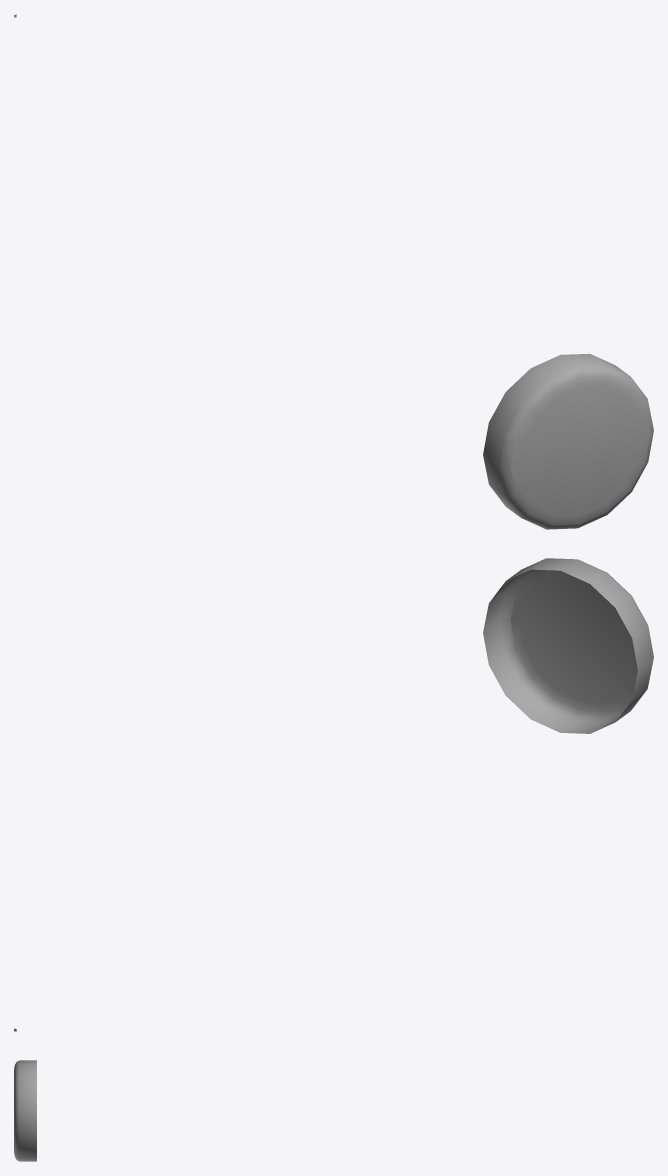
The model's file is AlarmClockButton_28_AlarmClockButton_28_1_GeomSubset_2.obj.
The picture shows the model from 3 angles, top to bottom: view 1: azimuth 30°, elevation 25°; view 2: azimuth 150°, elevation 25°; view 3: azimuth 270°, elevation 25°; orthographic projection. The views are drawn at different scales.
Parts seen in each view (by area): view 1: AlarmClockButton_28_AlarmClockButton_28_1_GeomSubset_2; view 2: AlarmClockButton_28_AlarmClockButton_28_1_GeomSubset_2; view 3: AlarmClockButton_28_AlarmClockButton_28_1_GeomSubset_2.
Boxes of the visible parts, x1=… form: AlarmClockButton_28_AlarmClockButton_28_1_GeomSubset_2: x1=14, y1=14, x2=653, y2=529; AlarmClockButton_28_AlarmClockButton_28_1_GeomSubset_2: x1=14, y1=558, x2=653, y2=1031; AlarmClockButton_28_AlarmClockButton_28_1_GeomSubset_2: x1=14, y1=1060, x2=36, y2=1161.
Bounding box in the file's own units: 0.0587 × 0.0587 × 0.371.
